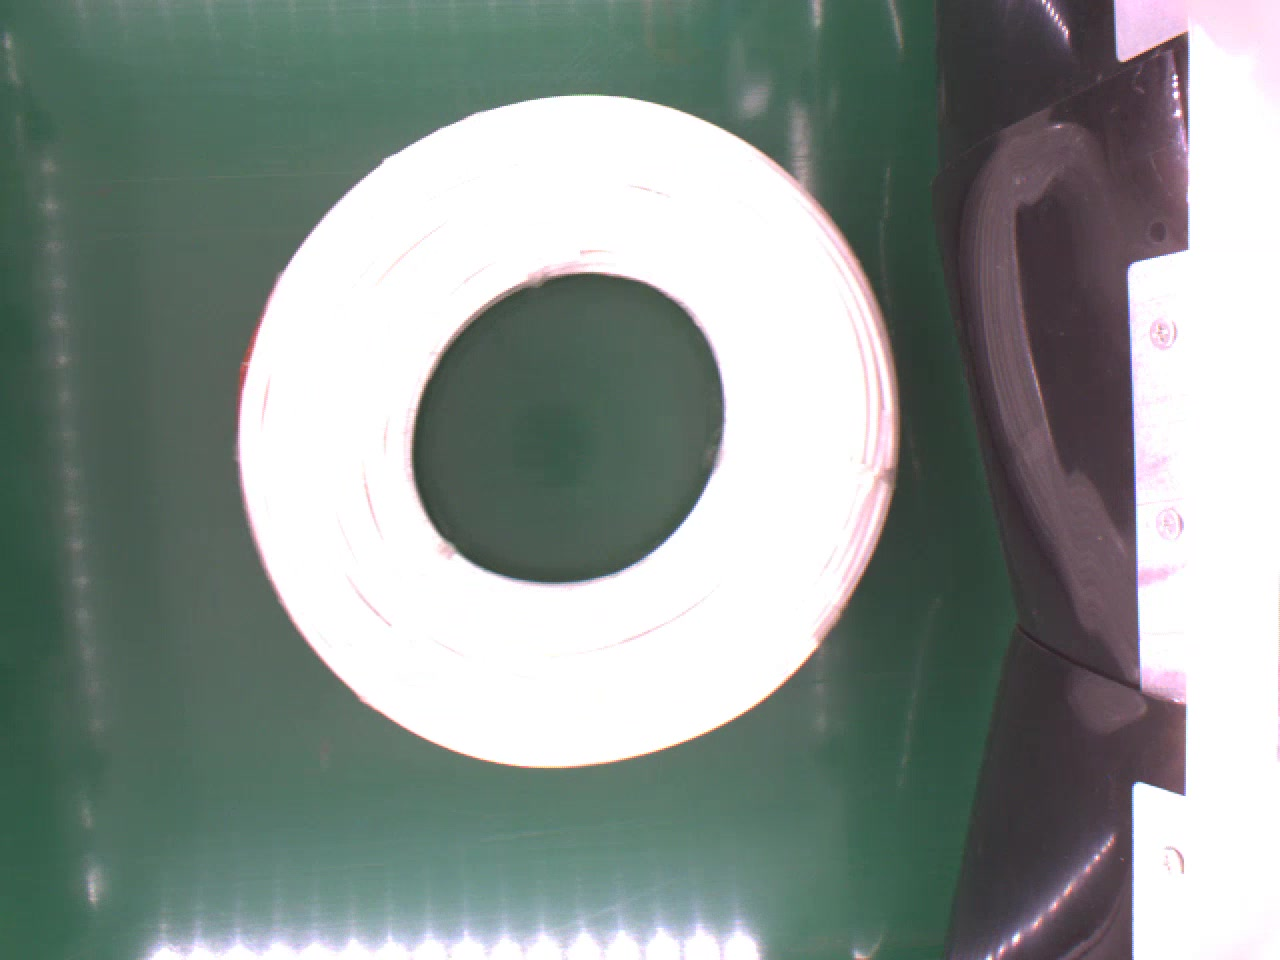white: (226, 86, 910, 779)
